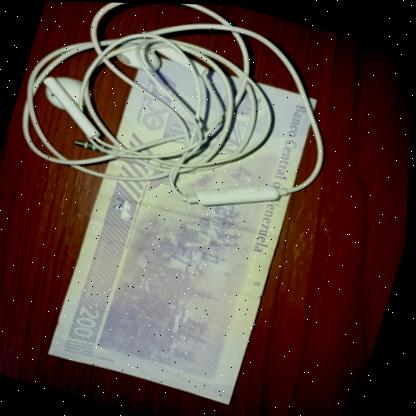two_hundred-back-vef: (48, 47, 323, 406)
